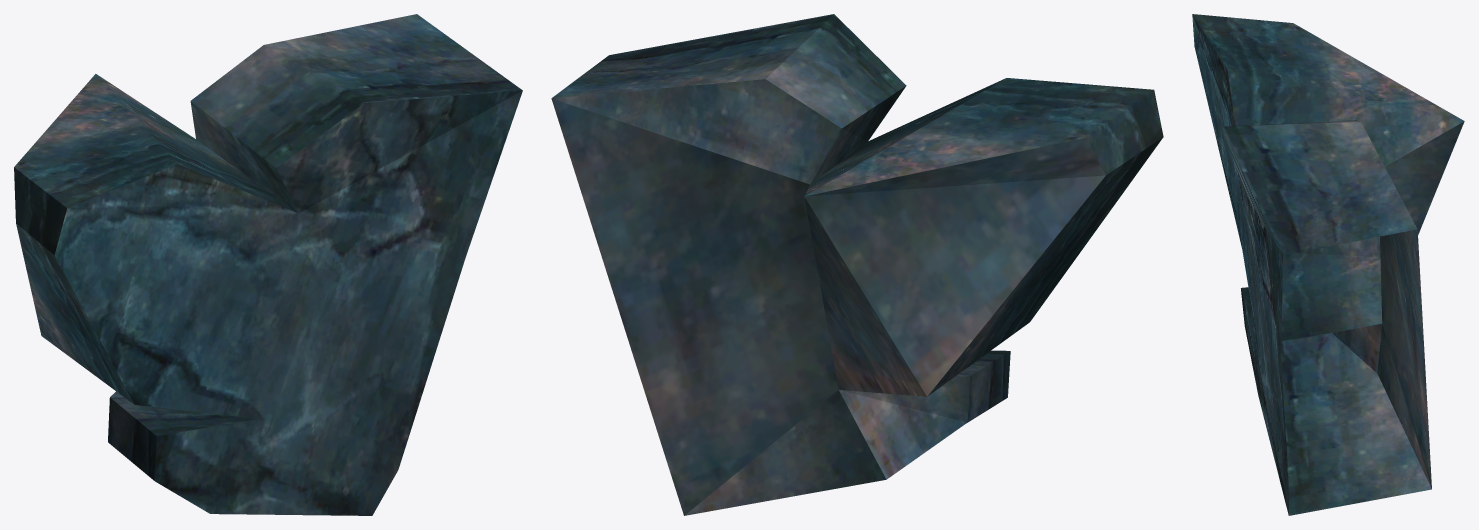
The model's file is huodong_fuben_402_shitou_05.obj.
3 renders of one model, left to right at view 1: azimuth 30°, elevation 25°; view 2: azimuth 150°, elevation 25°; view 3: azimuth 270°, elevation 25°, orthographic. The views are drawn at different scales.
Visible parts, largest first — view 1: huodong_fuben_402_shitou_05; view 2: huodong_fuben_402_shitou_05; view 3: huodong_fuben_402_shitou_05.
Boxes of the visible parts, bbox=[...] form: huodong_fuben_402_shitou_05: bbox=[14, 14, 522, 515]; huodong_fuben_402_shitou_05: bbox=[551, 14, 1163, 515]; huodong_fuben_402_shitou_05: bbox=[1192, 14, 1464, 515].
Size of the model in its own units: 972 by 809 by 541.
Materials: 1 (1 with a texture image).
